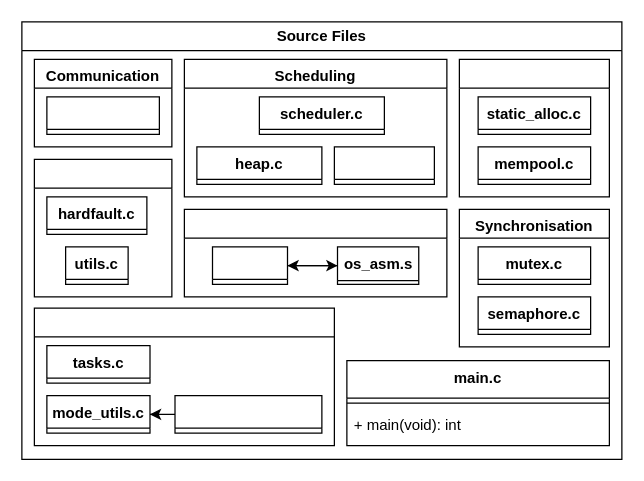
This 644x481 diagram has some shape labels left out. The box of each missing label's shape, as (x1, y1, x2, y2) in pixels:
Core OS: (183, 208, 447, 297)
Memory Allocation: (458, 58, 609, 197)
mode_utils_asm.s: (174, 394, 322, 433)
os.c: (211, 246, 288, 284)
queue.c: (46, 96, 159, 134)
sleep.c: (333, 146, 434, 184)
System: (33, 158, 172, 297)
User Interface: (33, 307, 334, 446)
